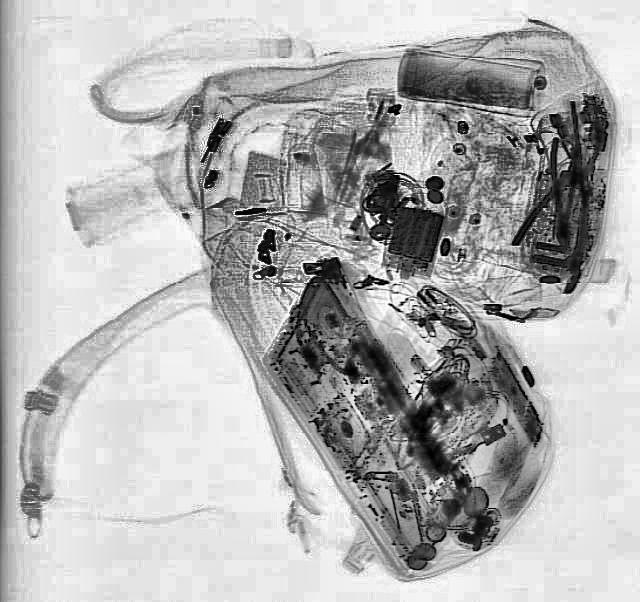Pliers: (505, 133, 627, 273), (544, 136, 582, 248)
